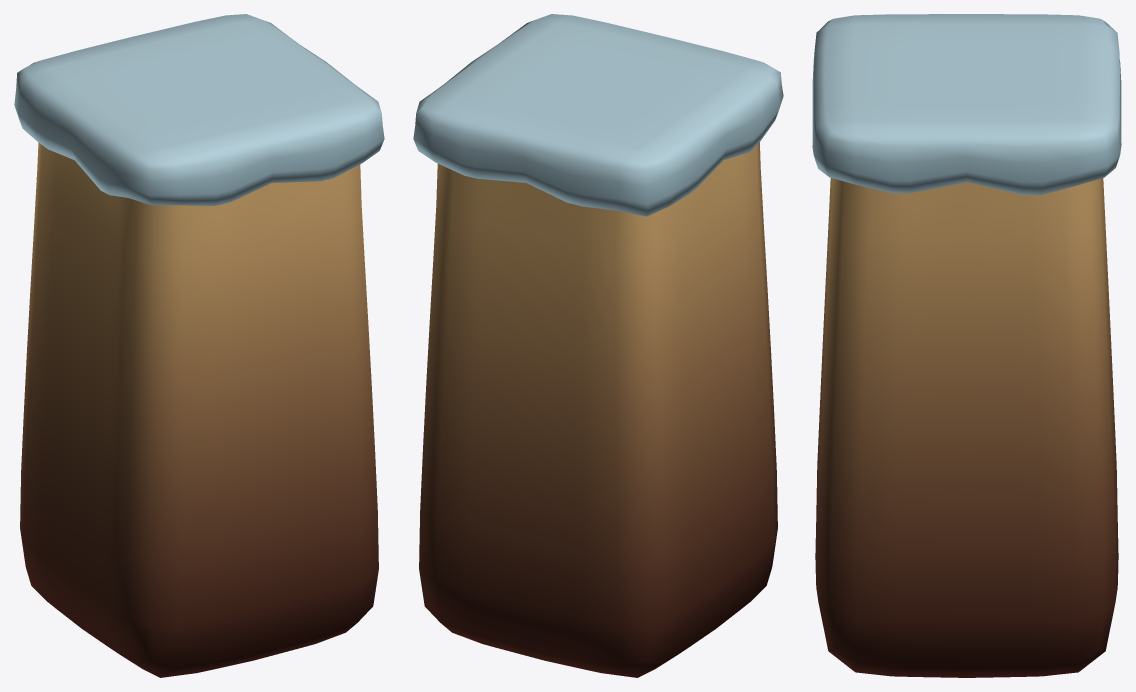
File: TileSnow_4m.fbx
3 renders of one model, left to right at view 1: azimuth 30°, elevation 25°; view 2: azimuth 150°, elevation 25°; view 3: azimuth 270°, elevation 25°, orthographic. The views are drawn at different scales.
Parts seen in each view (by area): view 1: TileSnow_4m; view 2: TileSnow_4m; view 3: TileSnow_4m.
Part boxes in pixels (bbox=[...]): TileSnow_4m: bbox=[14, 14, 384, 677]; TileSnow_4m: bbox=[413, 14, 783, 677]; TileSnow_4m: bbox=[812, 14, 1121, 677].
Bounding box in the file's own units: 2 × 4 × 2.
